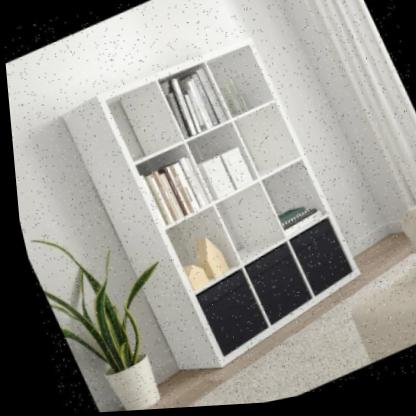Shelf: (38, 16, 383, 403)
